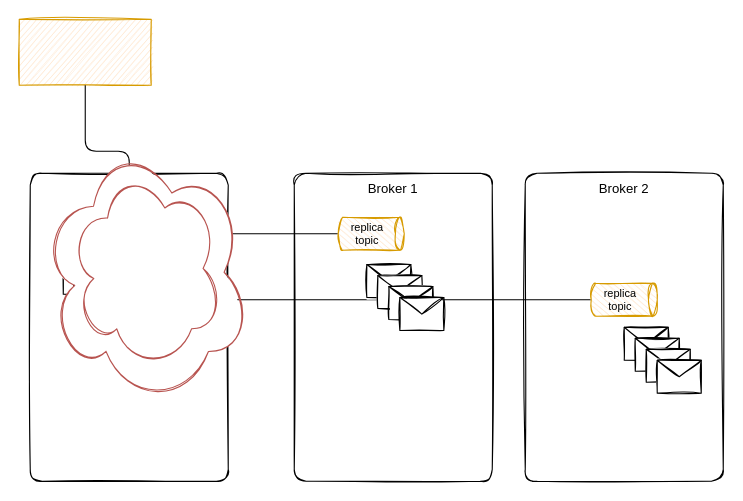
Some shapes in this 743 by 501 pixel diagram are drawn without their labels. The centre of each missing label's shape, as x and y in pixels:
Boom!!!: the point at 145,268
Producer: the point at 84,51
